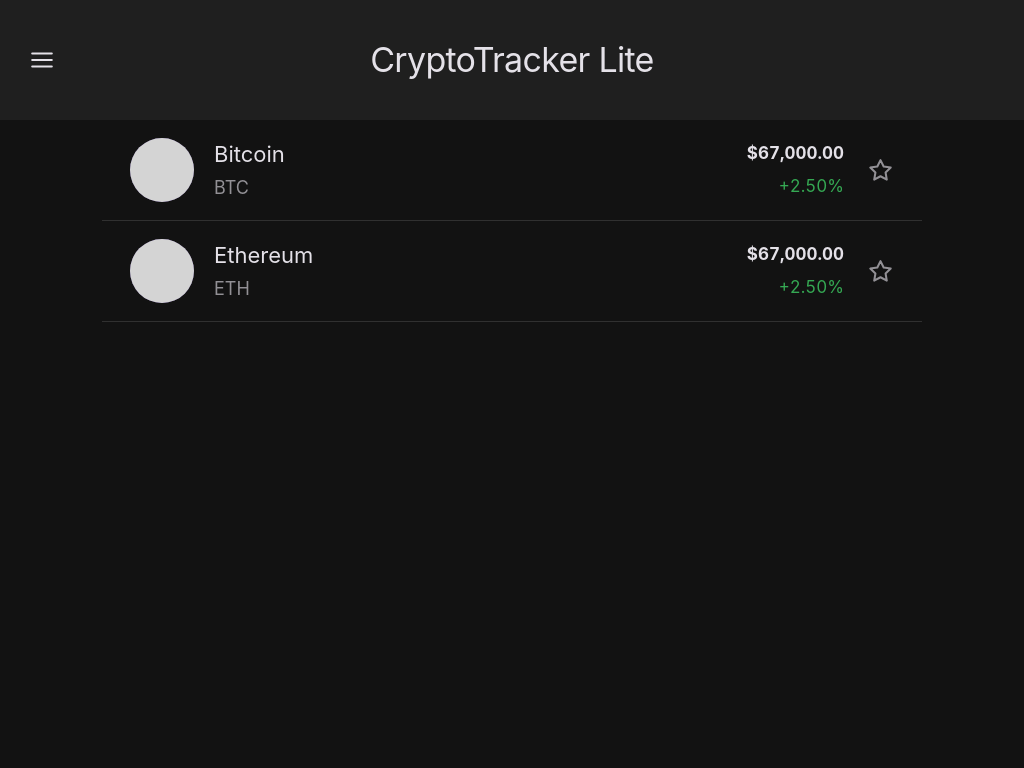
Test case: market detail navigation › keeps the last detail data and reports a failed refresh
The width and height of the screenshot is (1024, 768).
Click the button with aria-label "Ver detalle de Bitcoin" at (162, 170), box [130,138,844,202]
Wait 10000 ms
(page scrolled)
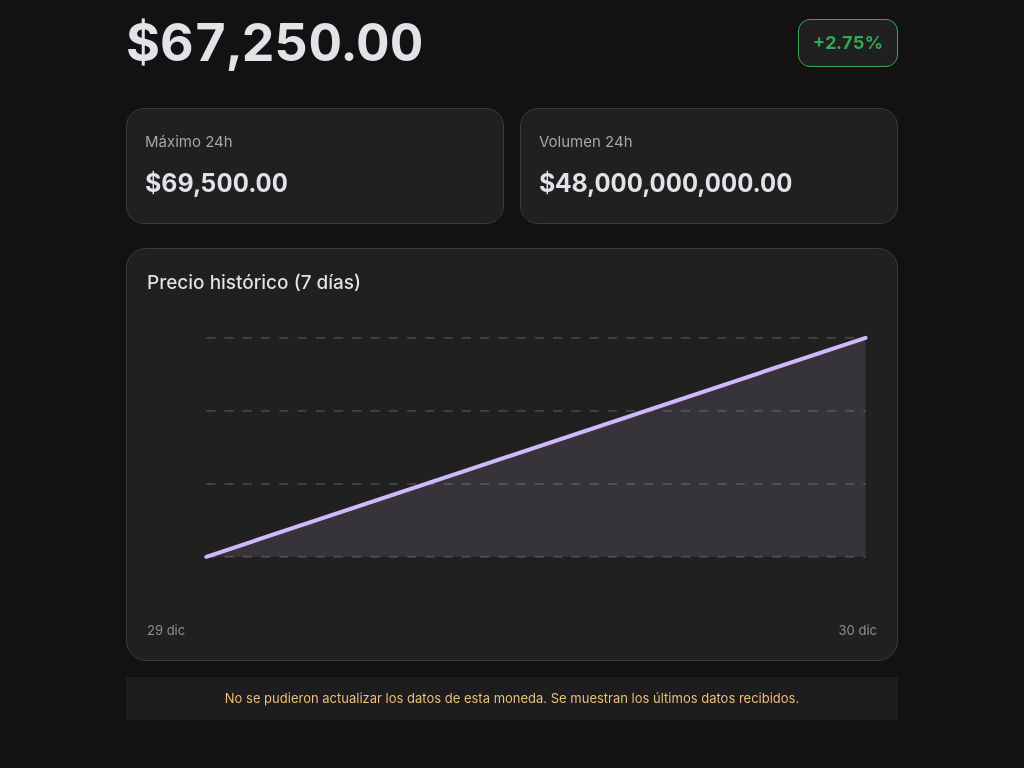
Now the text "$67,250.00" is shown, box [126,5,423,80]
Now the picture named "Gráfico del precio en USD durante los últimos 7 días" is shown, box [147,315,877,612]
Now the text "No se pudieron actualizar los datos de esta moneda. Se muestran los últimos datos recibidos." is shown, box [225,690,799,706]
